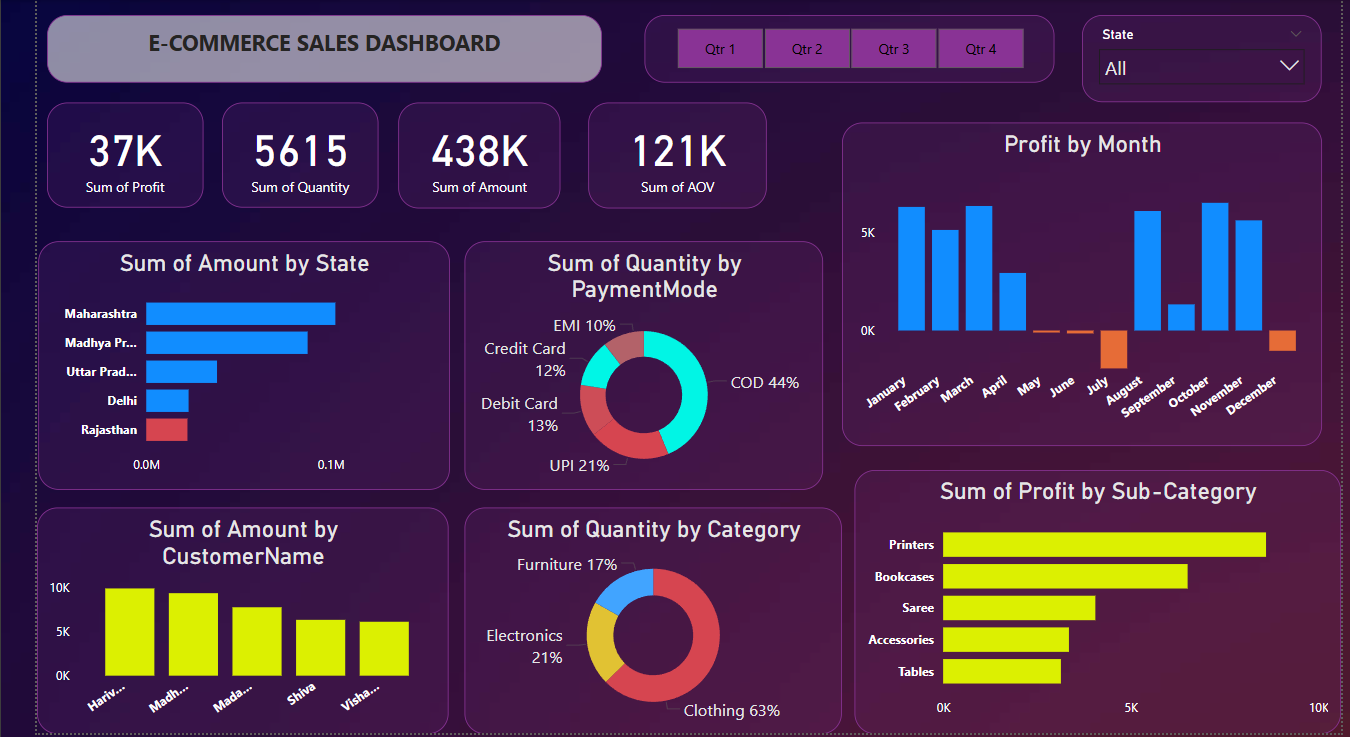

What the dashboard file says about the page in this screenshot:
{"tool":"powerbi","page":{"name":"E-Commerce Dashboard","canvas":[1280,720],"ordinal":0},"visuals":[{"type":"textbox","box":[9.8,14.7,544.8,66.3],"z":0},{"type":"columnChart","title":"Profit by Month","fields":{"Y":["Details.Profit"],"Category":["Orders.Order Date.Variation.Date Hierarchy.Month"]},"box":[790.2,120.2,471.2,317.8],"z":1000},{"type":"barChart","fields":{"Category":["Details.Sub-Category"],"Y":["Details.Profit"]},"box":[802.5,461.4,477.3,258.9],"z":2000},{"type":"donutChart","fields":{"Category":["Details.Category"],"Y":["Details.Quantity"]},"box":[419.6,498.2,370.6,222.1],"z":3000},{"type":"donutChart","fields":{"Y":["Details.Quantity"],"Category":["Details.PaymentMode"]},"box":[419.6,236.8,352.1,244.2],"z":4000},{"type":"card","fields":{"Values":["Details.Amount"]},"box":[354.6,100.6,159.5,104.3],"z":5000},{"type":"card","fields":{"Values":["Details.Quantity"]},"box":[181.6,100.6,153.4,103.1],"z":6000},{"type":"card","fields":{"Values":["Details.Profit"]},"box":[9.8,100.6,153.4,103.1],"z":7000},{"type":"card","fields":{"Values":["Details.AOV"]},"box":[541.1,100.6,175.5,104.3],"z":8000},{"type":"barChart","fields":{"Category":["Orders.State"],"Y":["Details.Amount"]},"box":[1.2,236.8,403.7,244.2],"z":9000},{"type":"columnChart","fields":{"Category":["Orders.CustomerName"],"Y":["Details.Amount"]},"box":[0,498.2,403.7,222.1],"z":10000},{"type":"slicer","fields":{"Values":["Orders.Order Date.Variation.Date Hierarchy.Quarter"]},"box":[596.3,14.7,402.5,66.3],"z":11000},{"type":"slicer","fields":{"Values":["Orders.State"]},"box":[1025.8,14.7,235.6,85.9],"z":11001}]}

Visuals, with their boxes on the page's 1280x720 design canvas (x1, y1, x2, y2). These are canvas units, not pixel positions in the 1350x737 screenshot, which may show the page scaled, cropped or inside an application window:
textbox: bbox=(10, 15, 555, 81)
"Profit by Month" columnChart: bbox=(790, 120, 1261, 438)
barChart - Details.Sub-Category x Details.Profit: bbox=(802, 461, 1280, 720)
donutChart - Details.Category x Details.Quantity: bbox=(420, 498, 790, 720)
donutChart - Details.Quantity x Details.PaymentMode: bbox=(420, 237, 772, 481)
card - Details.Amount: bbox=(355, 101, 514, 205)
card - Details.Quantity: bbox=(182, 101, 335, 204)
card - Details.Profit: bbox=(10, 101, 163, 204)
card - Details.AOV: bbox=(541, 101, 717, 205)
barChart - Orders.State x Details.Amount: bbox=(1, 237, 405, 481)
columnChart - Orders.CustomerName x Details.Amount: bbox=(0, 498, 404, 720)
slicer - Orders.Order Date.Variation.Date Hierarchy.Quarter: bbox=(596, 15, 999, 81)
slicer - Orders.State: bbox=(1026, 15, 1261, 101)
